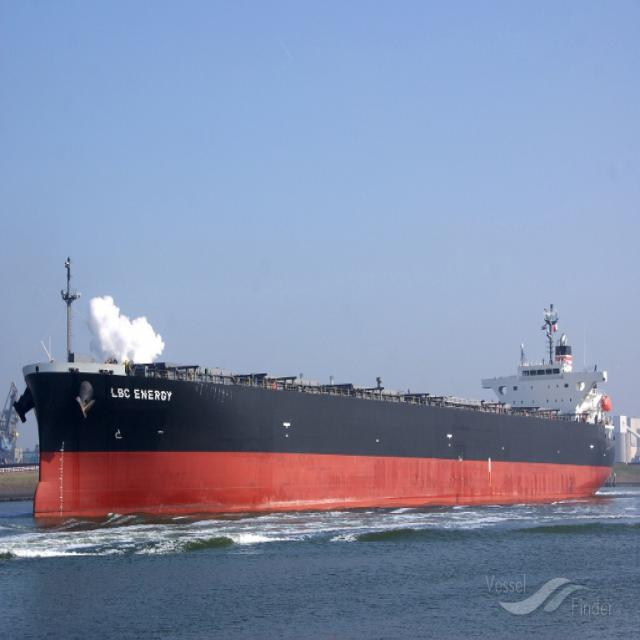OCR: (108, 379, 174, 407)
